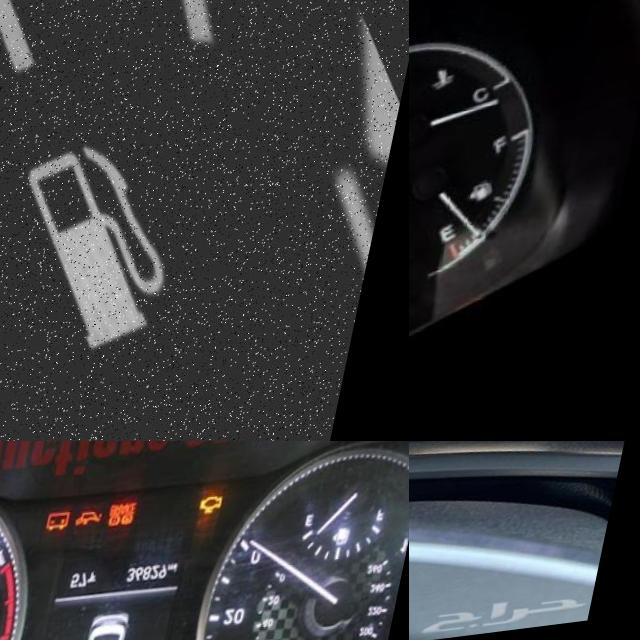Low fuel level: (479, 192, 508, 217)
